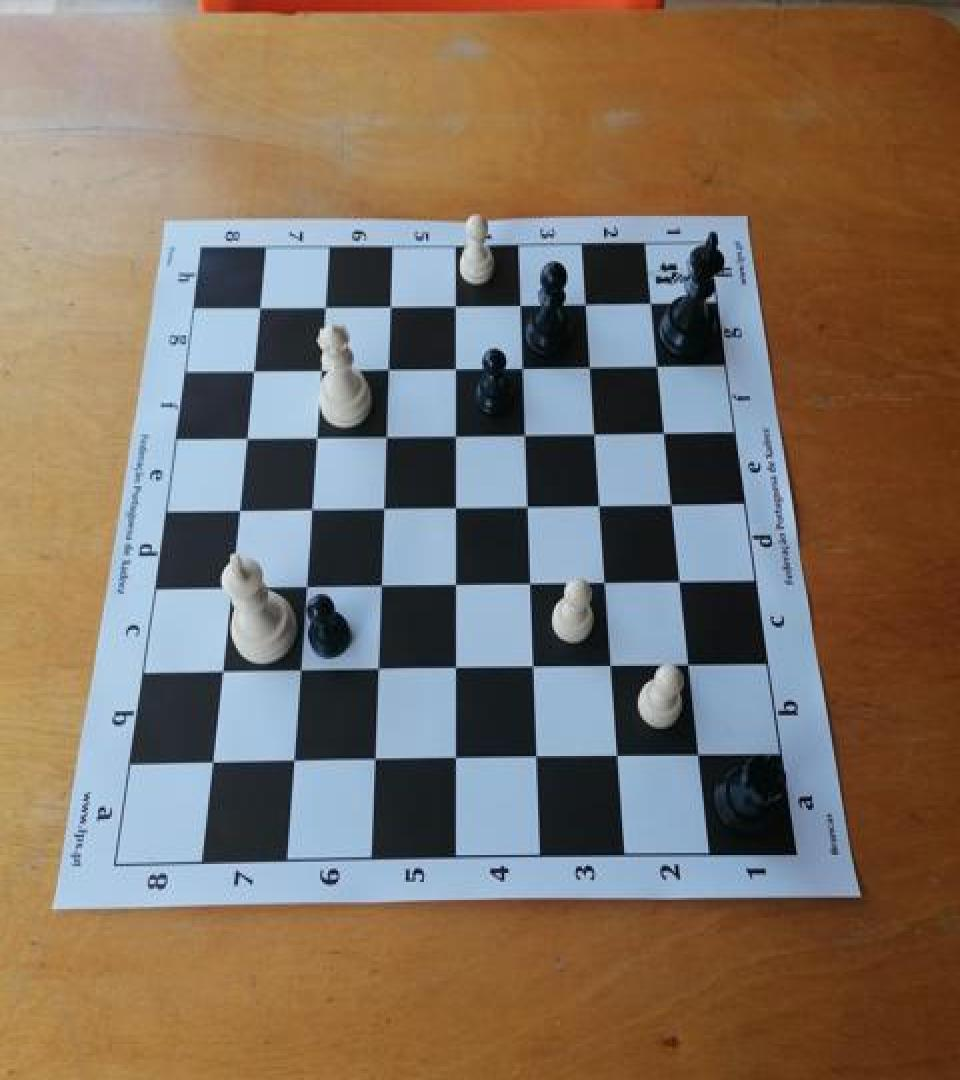xcorner: (523, 742, 551, 774), (604, 742, 632, 774), (685, 741, 713, 773), (441, 652, 469, 684), (519, 651, 547, 683), (597, 651, 625, 683), (675, 650, 703, 682), (216, 570, 244, 602), (291, 569, 319, 601), (366, 569, 394, 601), (441, 568, 469, 600), (516, 567, 544, 599), (590, 567, 618, 599), (369, 490, 397, 522), (441, 490, 469, 522), (512, 489, 540, 521), (584, 489, 612, 521), (656, 488, 684, 520), (371, 418, 399, 450), (440, 418, 468, 450), (510, 417, 538, 449), (579, 417, 607, 449), (648, 416, 676, 448), (239, 353, 267, 385), (306, 352, 334, 384), (373, 352, 401, 384), (440, 351, 468, 383), (246, 290, 274, 322), (310, 289, 338, 321), (375, 289, 403, 321), (440, 288, 468, 320), (504, 288, 532, 320), (198, 746, 226, 777), (279, 745, 307, 776), (361, 745, 389, 776), (442, 744, 470, 775), (208, 655, 236, 686), (286, 654, 314, 685), (363, 654, 391, 685), (665, 566, 693, 597), (225, 493, 253, 524), (297, 492, 325, 523), (232, 420, 260, 451), (301, 420, 329, 451), (507, 350, 535, 381), (574, 350, 602, 381), (641, 349, 669, 380), (569, 287, 597, 318), (633, 287, 661, 318)
